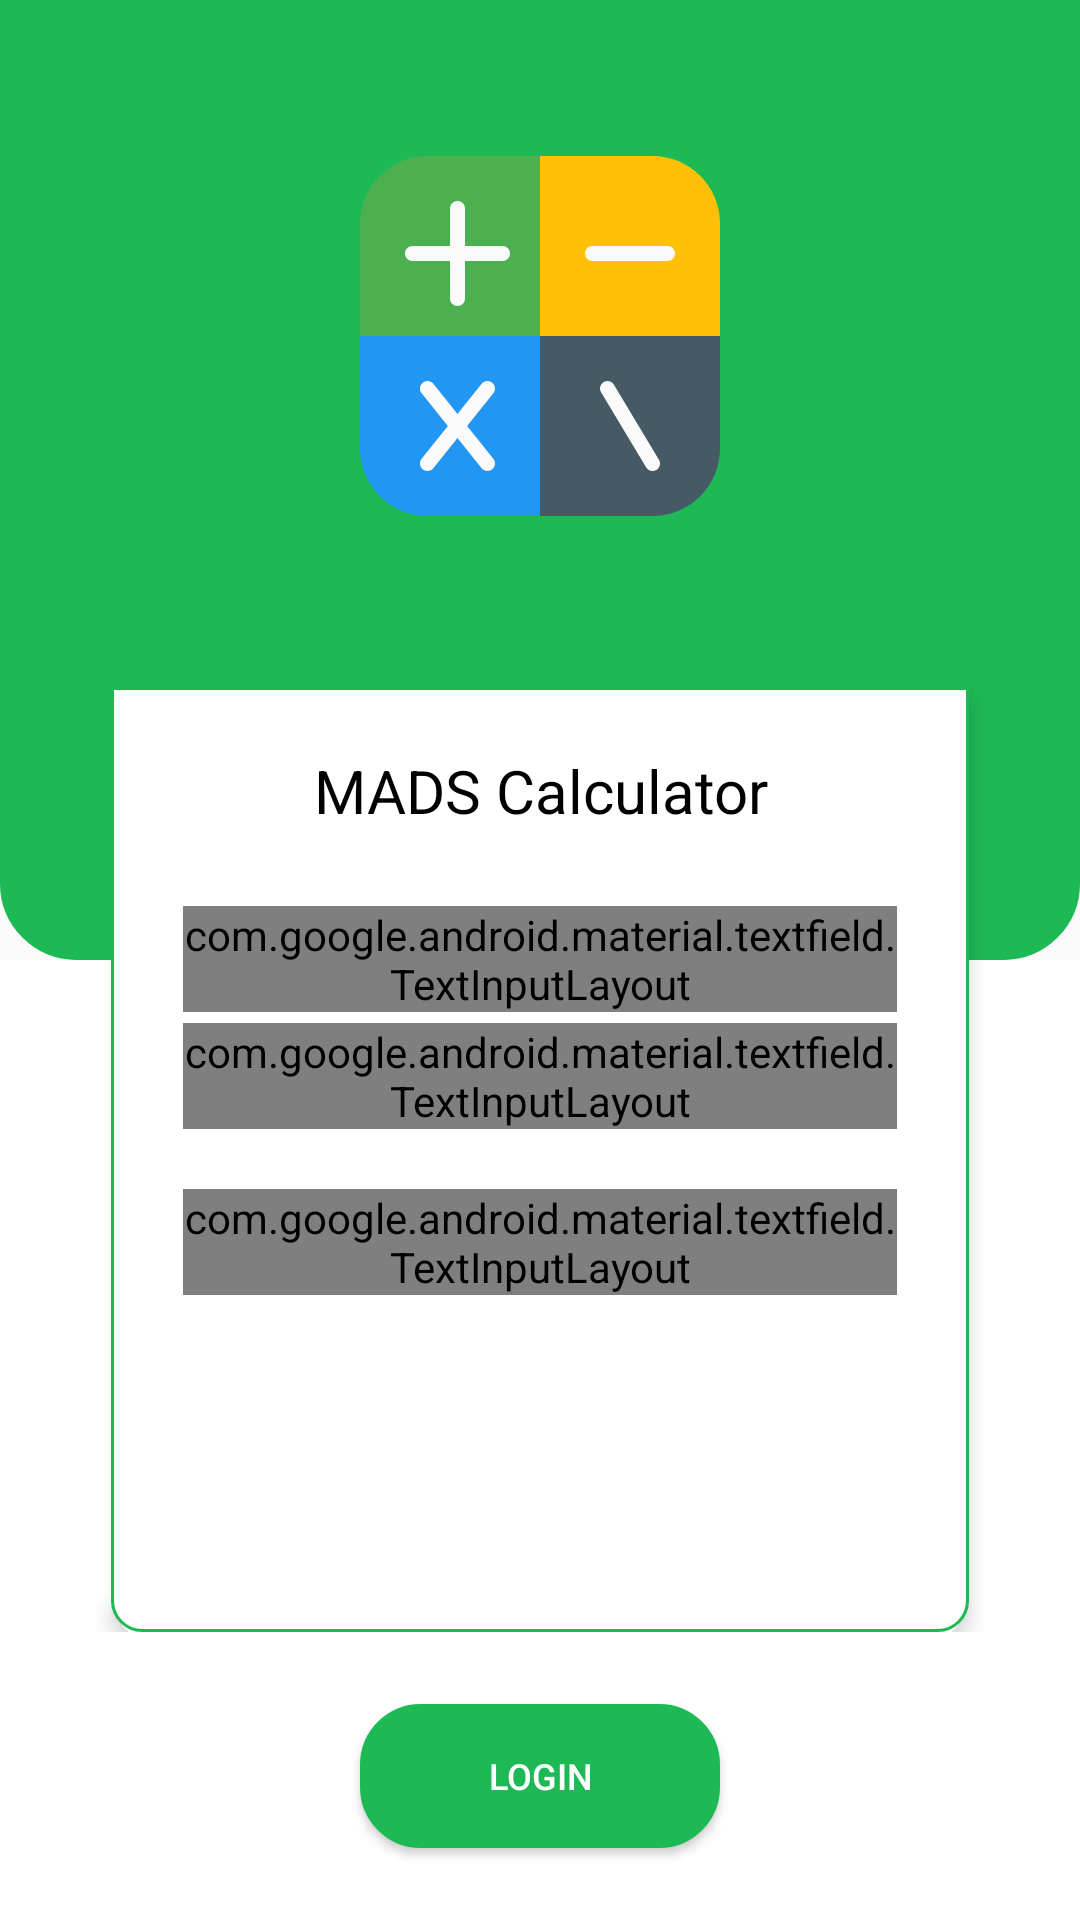

Icons on this 1080 x 1920 Android screen, each with its box as (x1, y1, x2, y2):
calculator: (360, 156, 720, 516)
